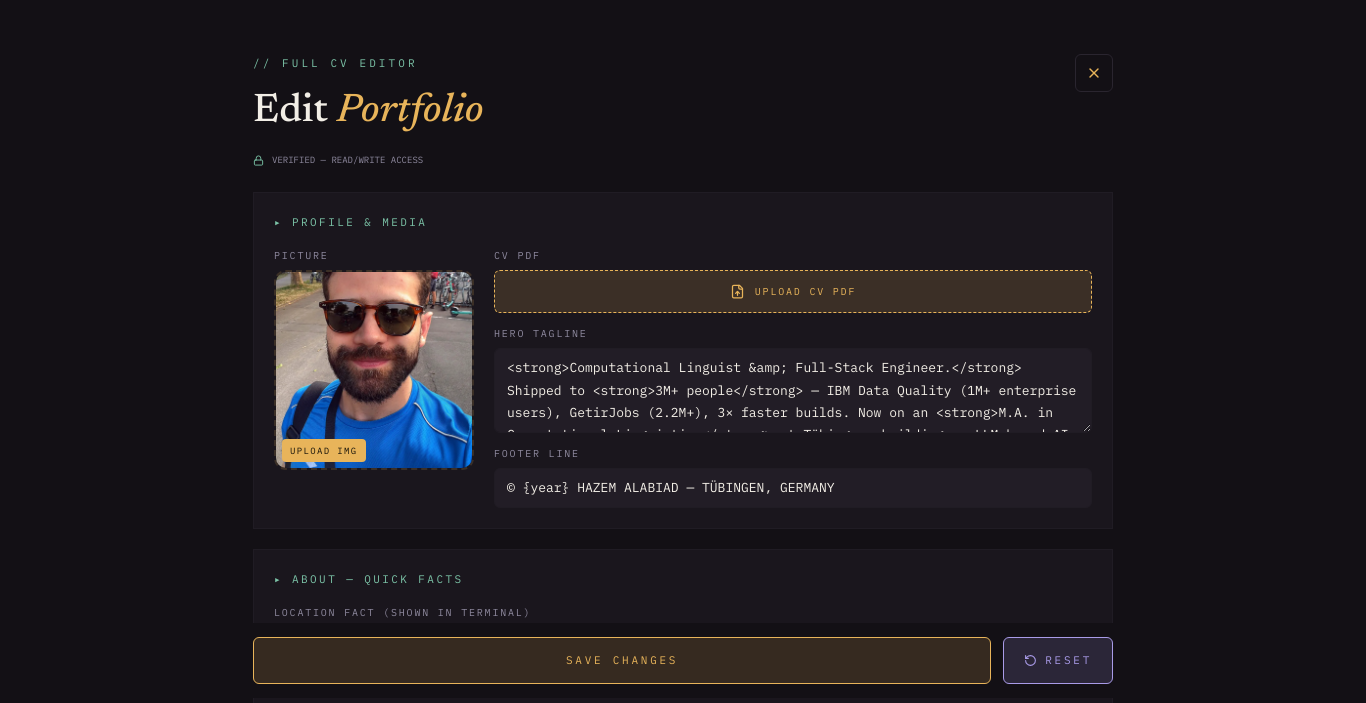
it: CmsEditor › edits fields and saves the updated content
This screenshot has width=1366, height=703.
Replace the text in the text box showing "<strong>Computational Linguist &amp; Full-Stack Engineer.</strong> Shipped to <strong>3M+ people</strong> — IBM Data Qua" below "HERO TAGLINE" with "New tagline" at [793, 391], box [494, 348, 1092, 433]
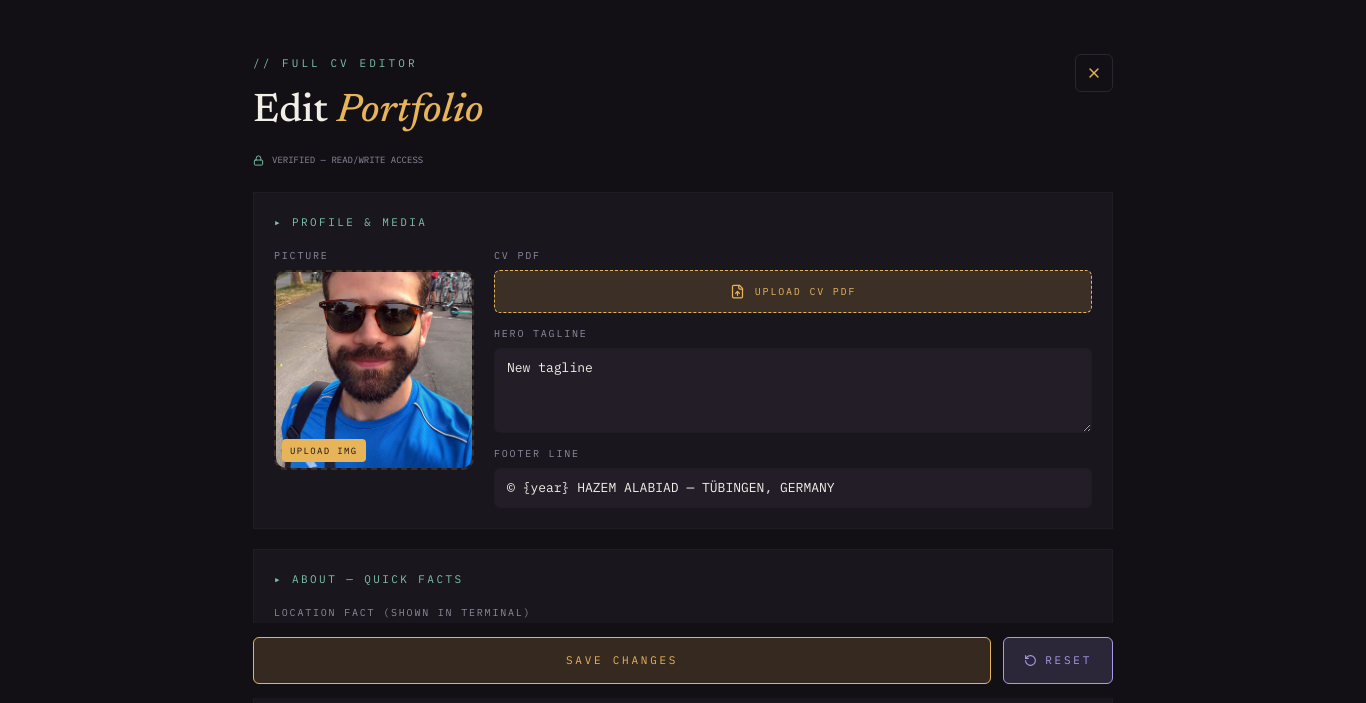
Replace the text in the field showing "© {year} HAZEM ALABIAD — TÜBINGEN, GERMANY" with "custom footer" at [793, 488], box [494, 468, 1092, 508]
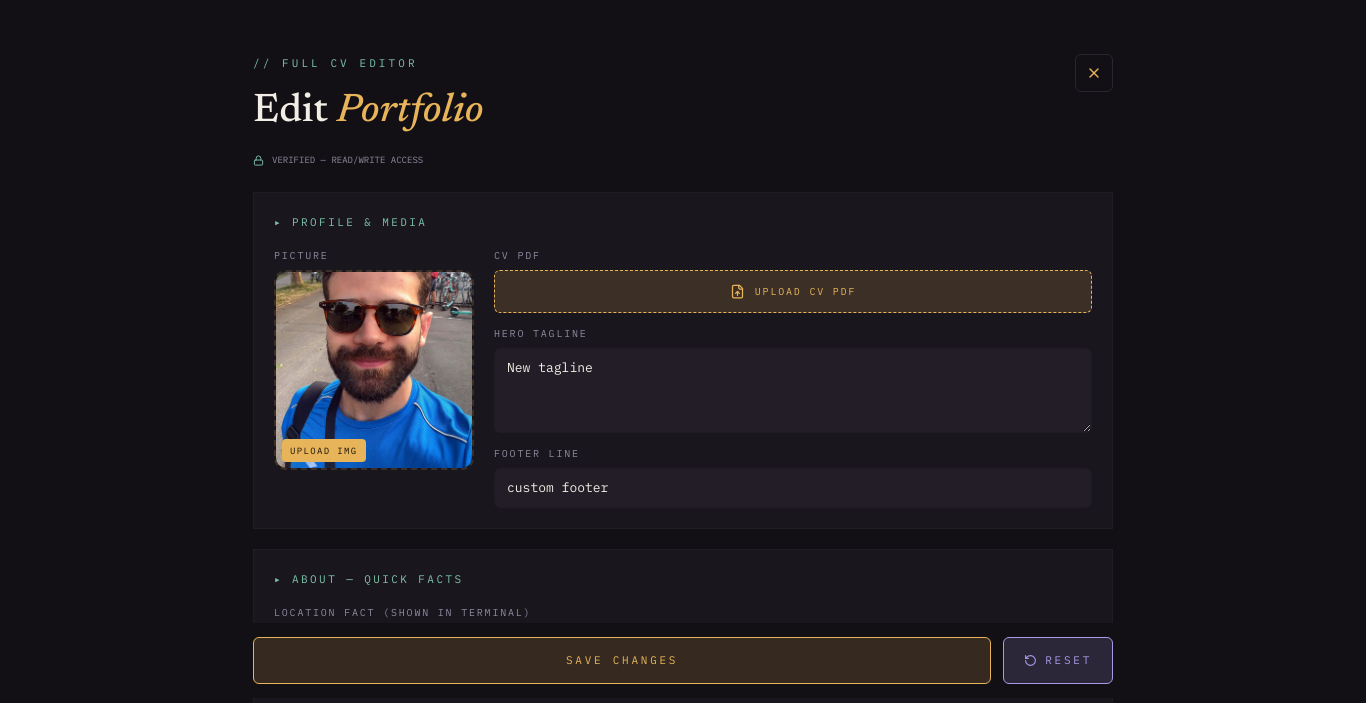
Click the button "SAVE CHANGES".
click(622, 661)  # box [253, 638, 991, 684]
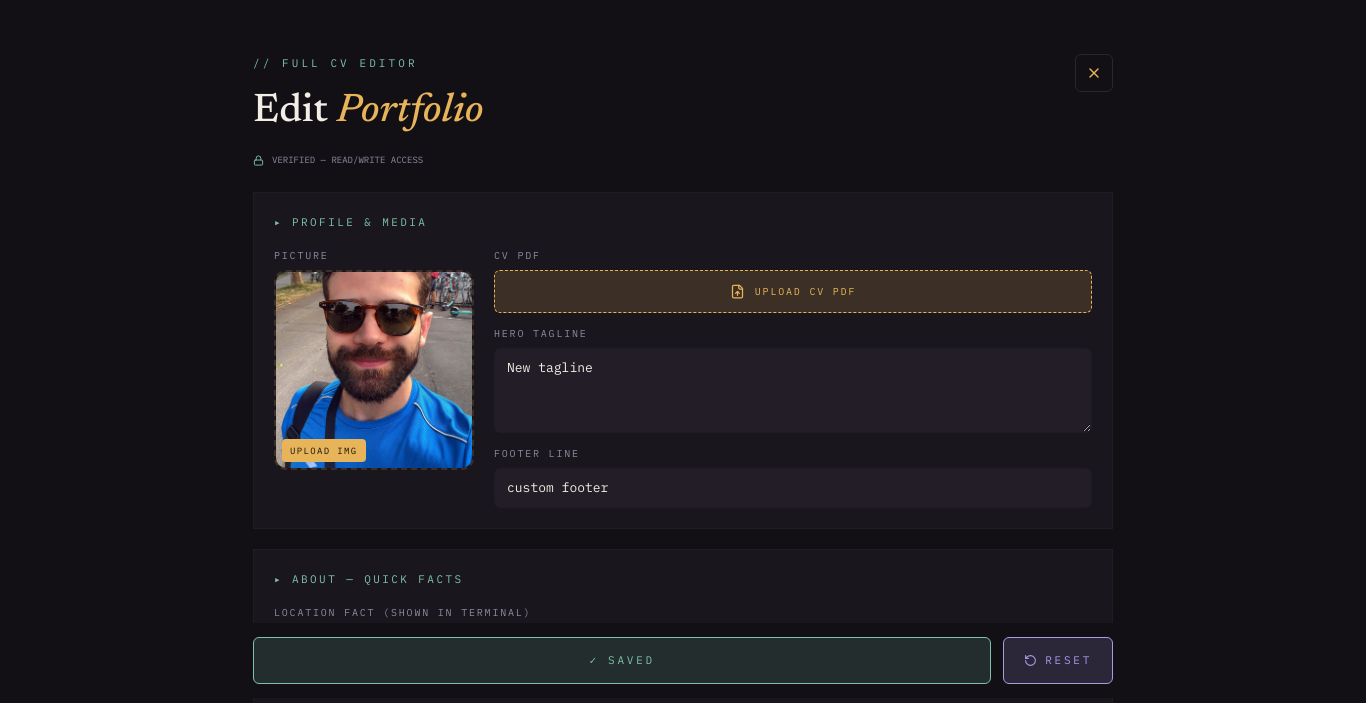
Result: the button "✓ SAVED" is shown at [253, 638, 991, 684]
